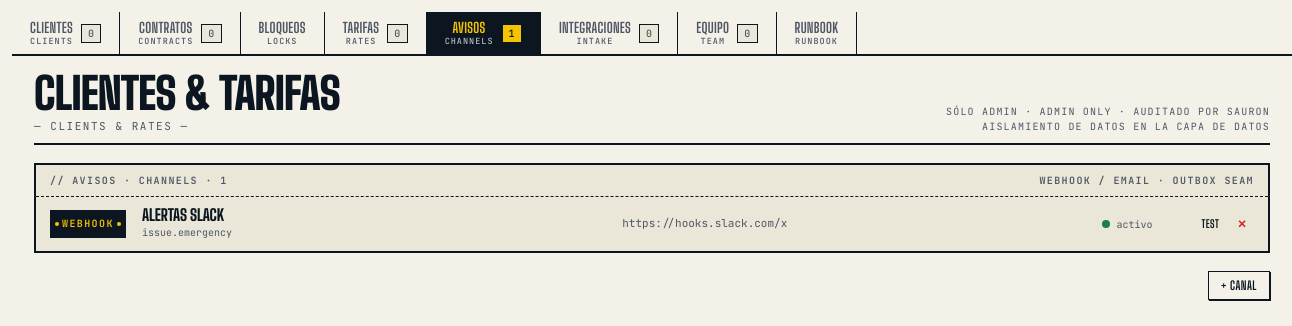
Test: SettingsPage › tests a channel and shows the OK result
Check: the text "Alertas Slack" is shown, box [142, 205, 224, 224]
Click the button "test". click: (1210, 224)
box: [1194, 212, 1226, 236]
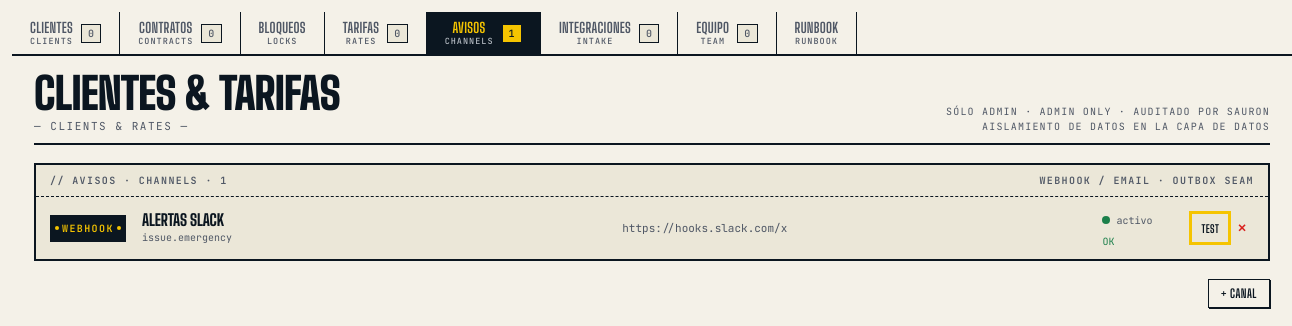
Check: the text "OK" is shown, box [1102, 235, 1114, 248]
